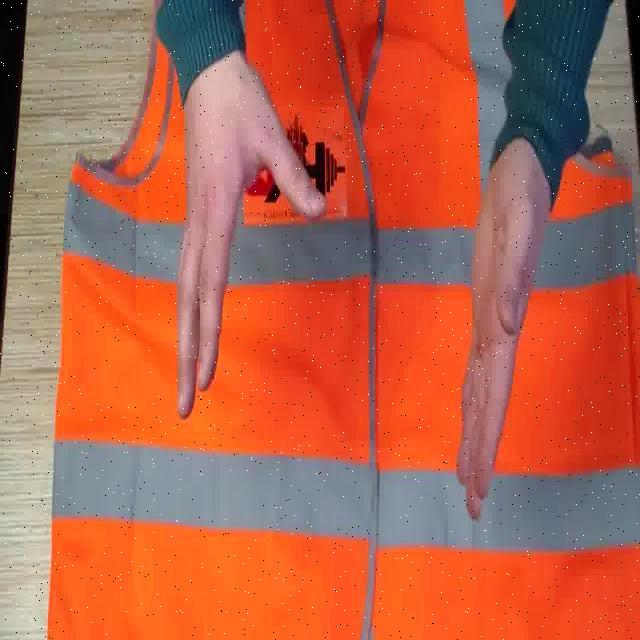Vest: (65, 2, 632, 639)
